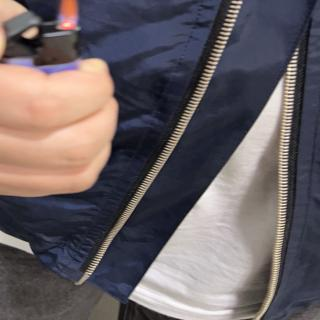fire: (55, 0, 78, 31)
